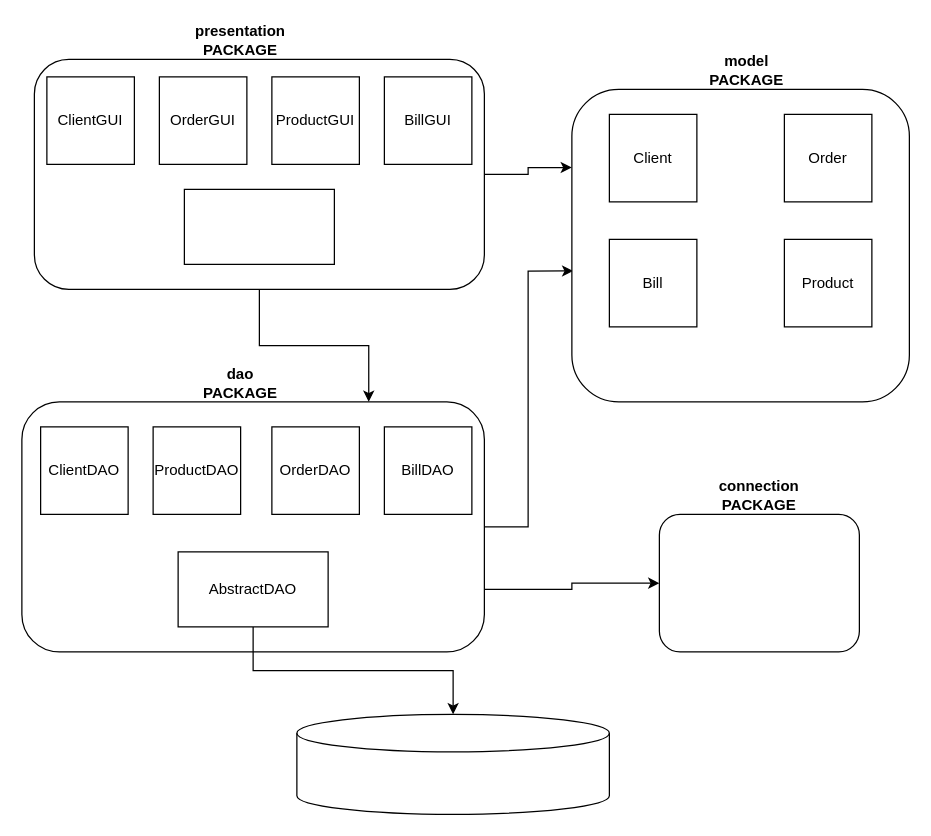
Some shapes in this 931 by 836 pixel diagram are drawn without their labels. The shapes that lost their labels are listed below. From the top down, each one's centre as x and y in pixels, then its label:
point 258,226: Main
point 758,582: ConnectionFactory
point 452,763: DataBase(schooldb)
